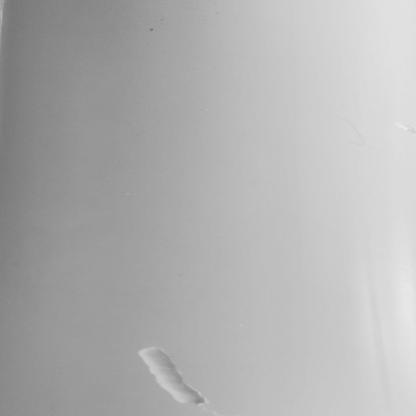sunshang: (139, 345, 211, 403), (398, 120, 416, 146)
